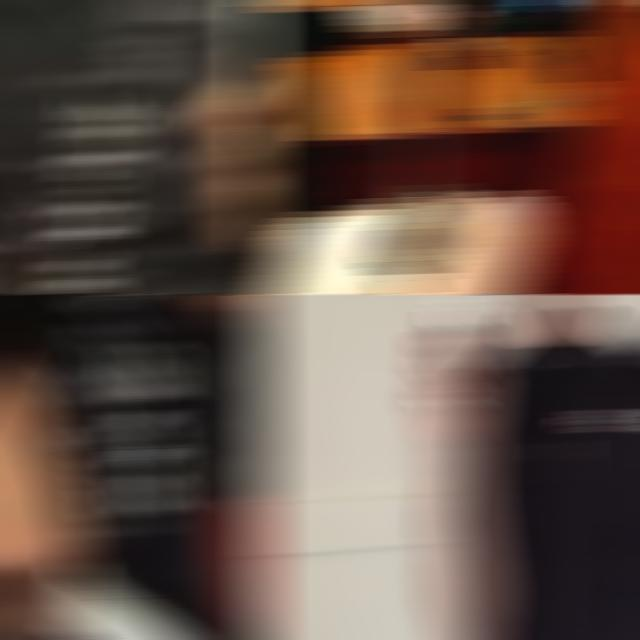Knife_Handle: (250, 0, 547, 294), (0, 490, 223, 640), (199, 0, 274, 276), (418, 294, 506, 458)
